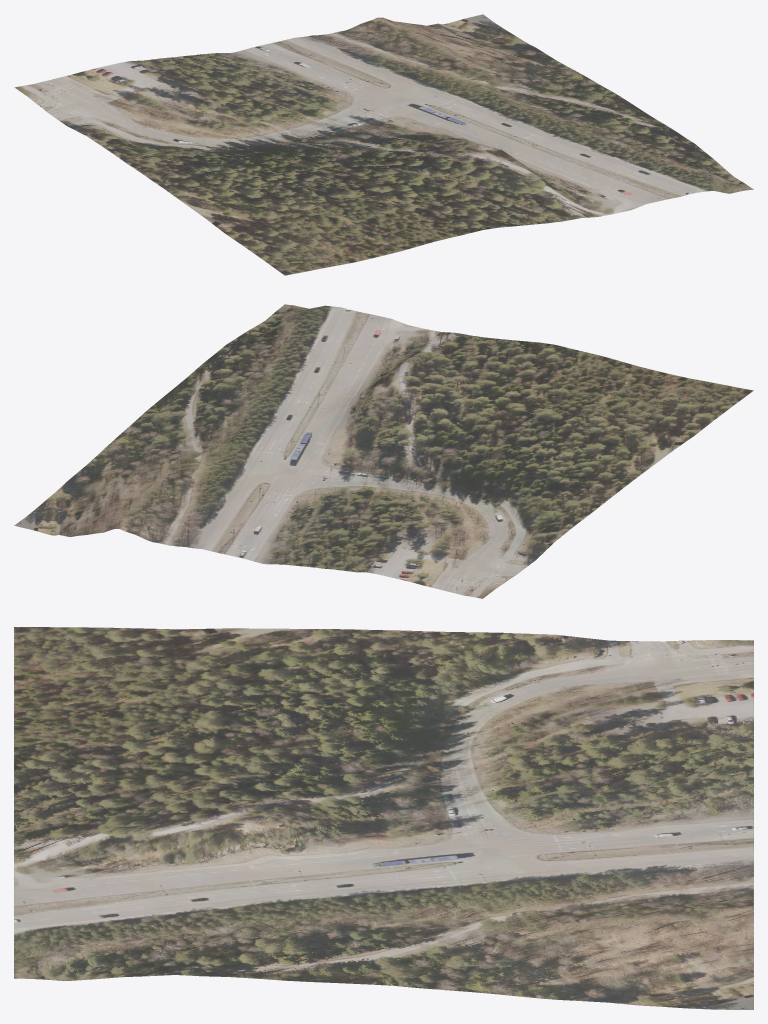
File: CM_Terrain_24491482_6817132.fbx
The picture shows the model from 3 angles, top to bottom: view 1: azimuth 30°, elevation 25°; view 2: azimuth 150°, elevation 25°; view 3: azimuth 270°, elevation 25°; orthographic projection. The views are drawn at different scales.
Parts seen in each view (by area): view 1: CM_Terrain_24491482_6817132_LOD0; view 2: CM_Terrain_24491482_6817132_LOD0; view 3: CM_Terrain_24491482_6817132_LOD0.
Part boxes in pixels (x1,y1,x2,y2): CM_Terrain_24491482_6817132_LOD0: [14, 14, 753, 275]; CM_Terrain_24491482_6817132_LOD0: [14, 304, 753, 598]; CM_Terrain_24491482_6817132_LOD0: [14, 627, 753, 1009].
Size of what is drawn, in the model's own units: 205 by 21.66 by 205.
